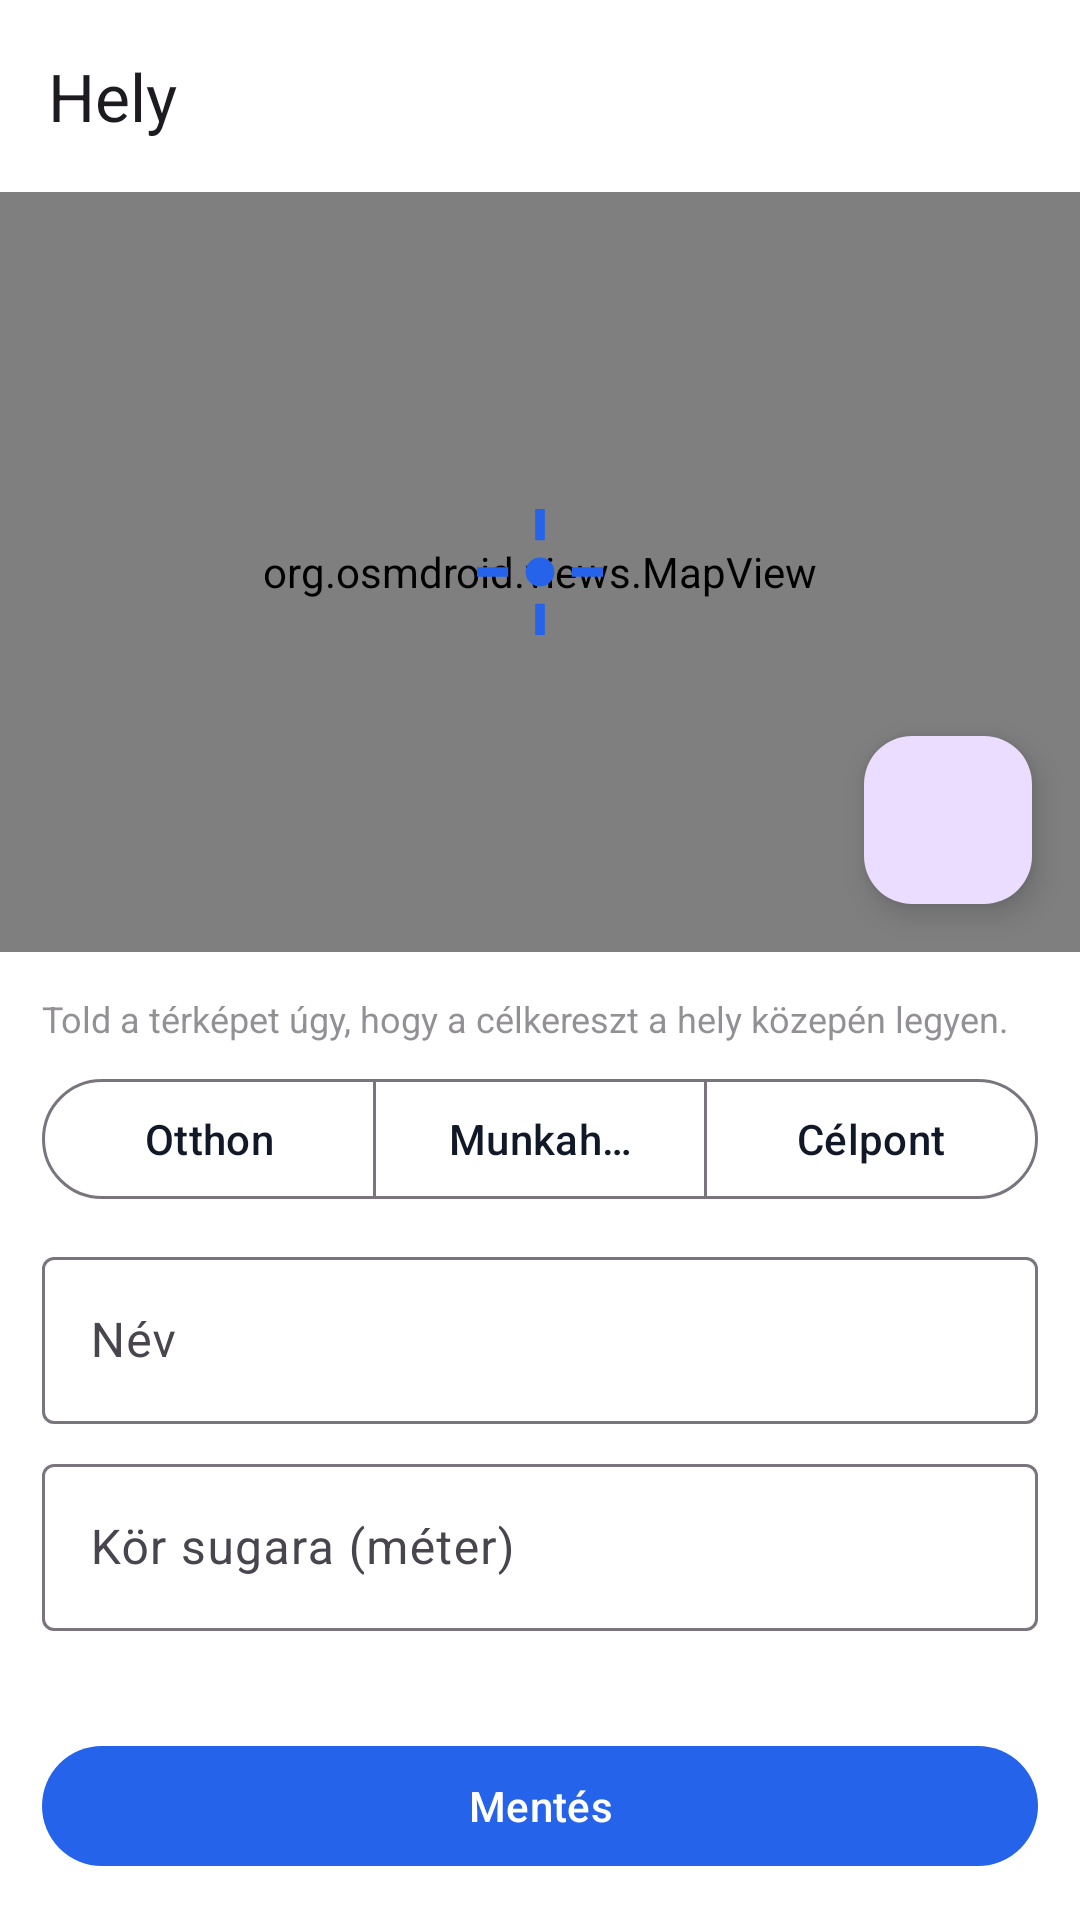

Point at icon controls on the screen. Image size 1080px×1920px, points as point (x, y).
crosshair: point (545, 572)
